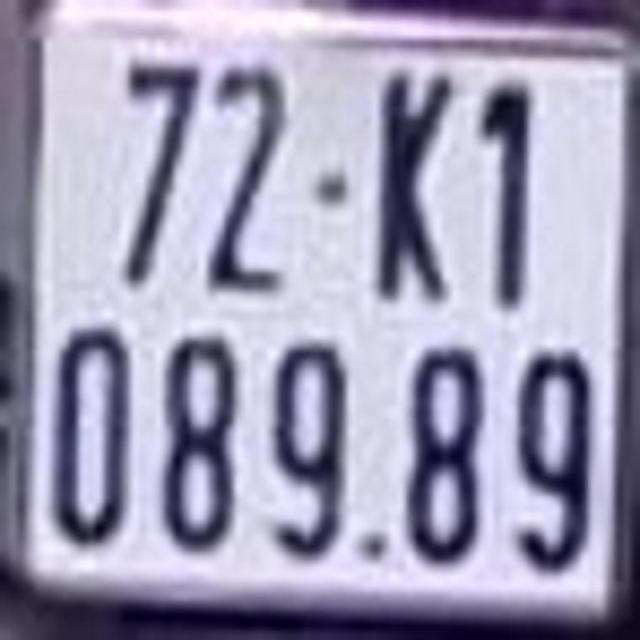0: (52, 324, 129, 543)
1: (481, 85, 540, 312)
2: (218, 67, 287, 295)
7: (124, 68, 192, 287)
8: (160, 332, 237, 550), (410, 344, 483, 561)
9: (271, 337, 349, 561), (515, 351, 592, 571)
K: (381, 67, 451, 304)
